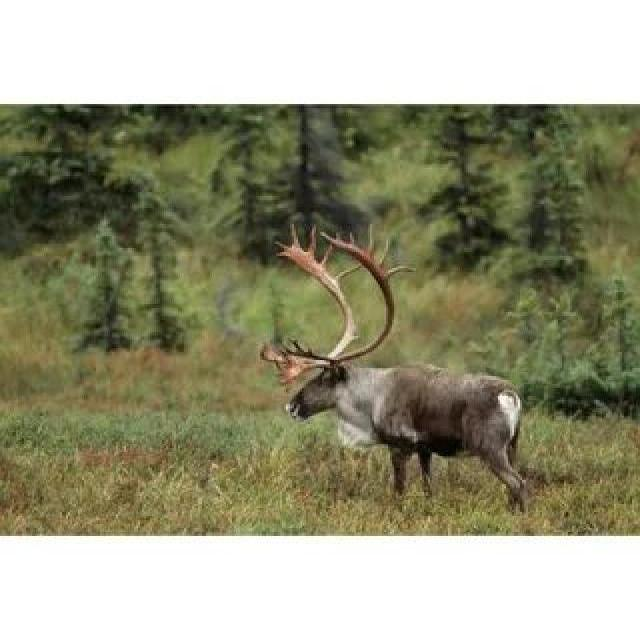deer: (211, 220, 592, 584)
